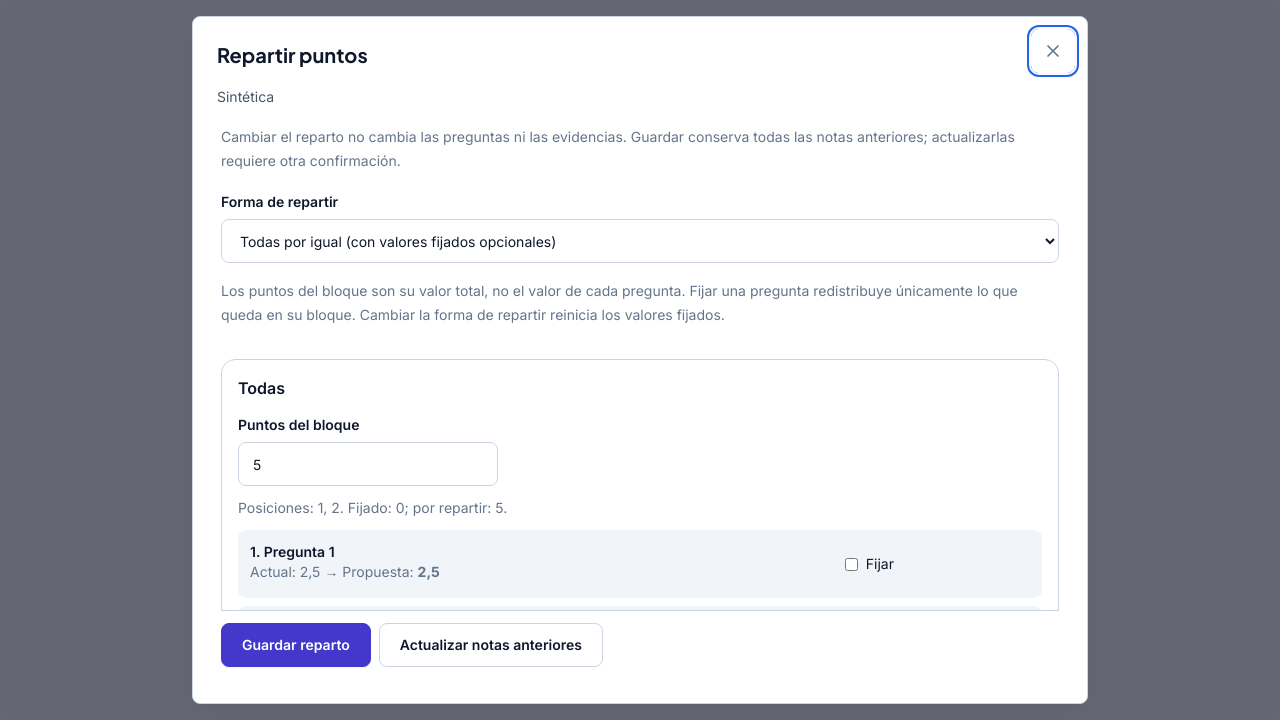
Test case: 137 permite una vista previa solo de lectura sin permiso de calificar
Expected: the dropdown labelled "Forma de repartir" is shown, [221,219,1059,263]
What coordinates should you click on to do the following:
click the button "Actualizar notas anteriores"
I would click on:
 (491, 645)
Its box is [379,623,603,667].
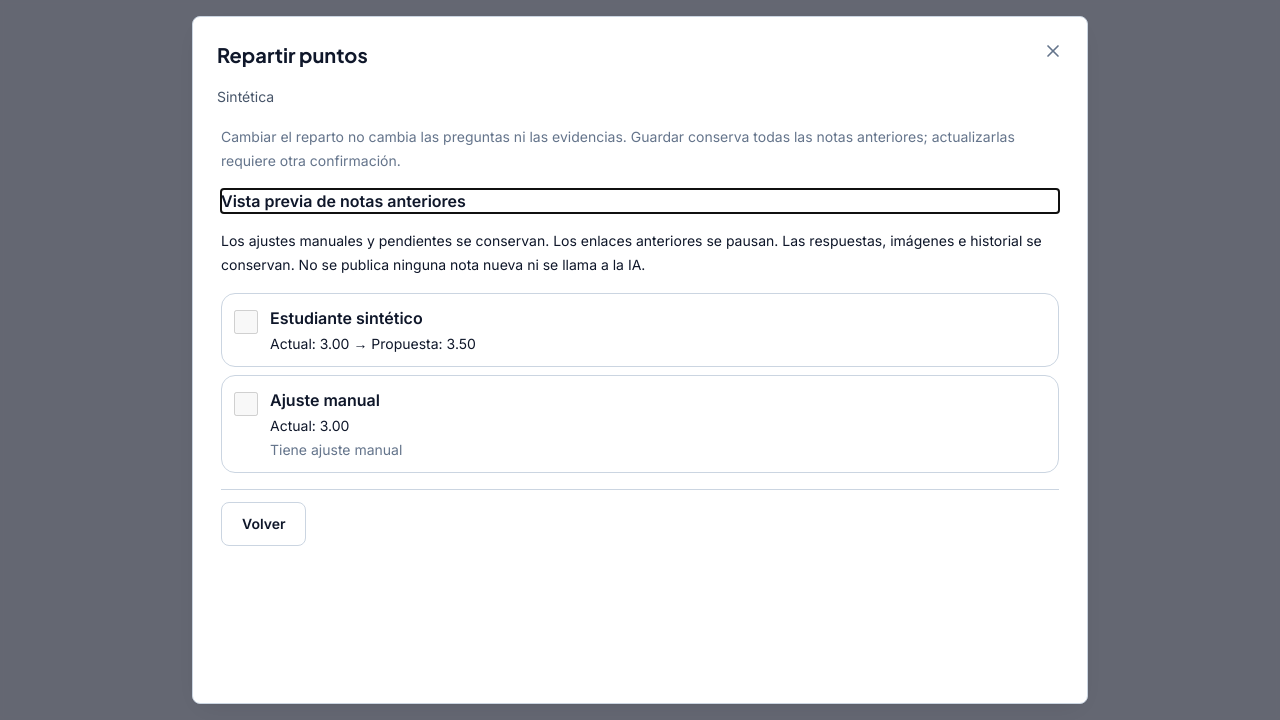
Result: the text "Estudiante sintético" is shown at [270,308,423,328]
Result: the checkbox named "Seleccionar Estudiante sintético" is disabled at [234,310,258,334]
